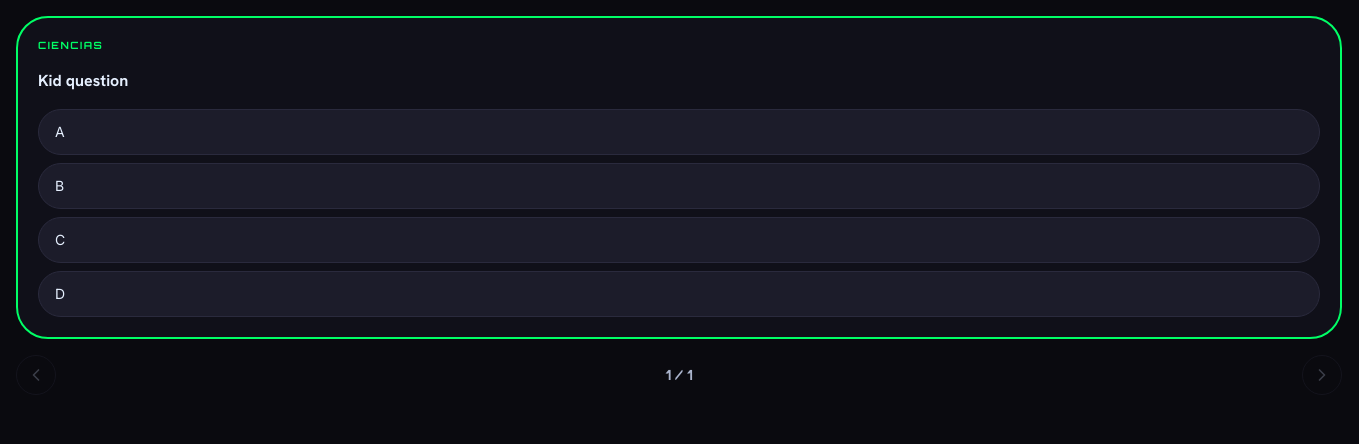
QuestionCardBrowser — interactive practice (Repaso) › marks a wrong pick and reveals the correct one, locking the card
Click the button with test id "card-option-0".
click(60, 132)  # box [38,109,1320,155]
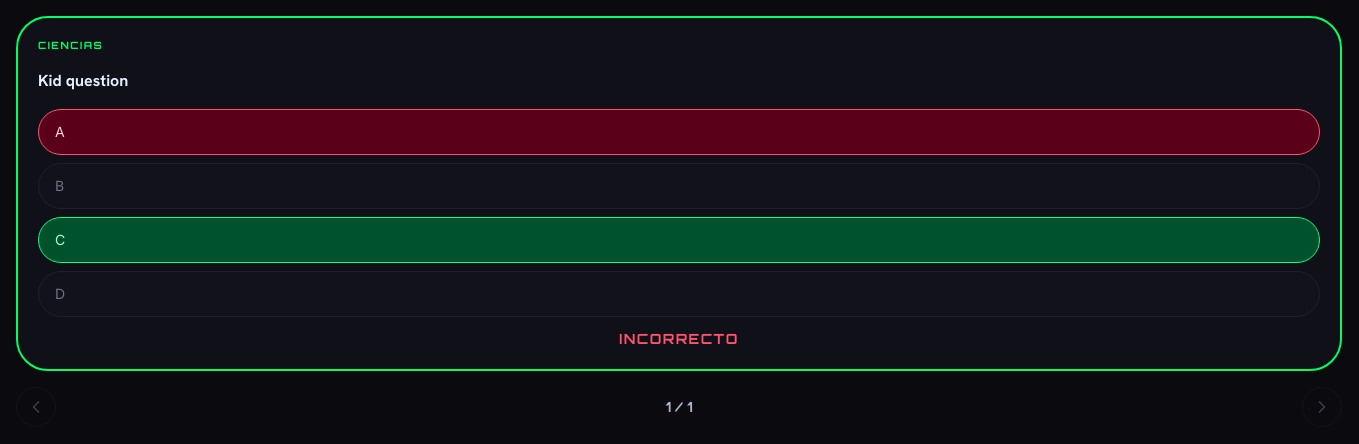
Result: the button with test id "card-option-1" is disabled at [38,163,1320,209]
